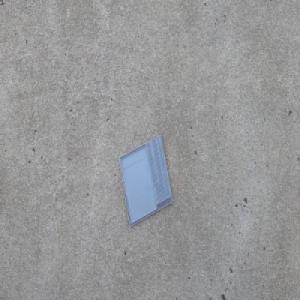PlasticPart: (118, 133, 173, 227)
